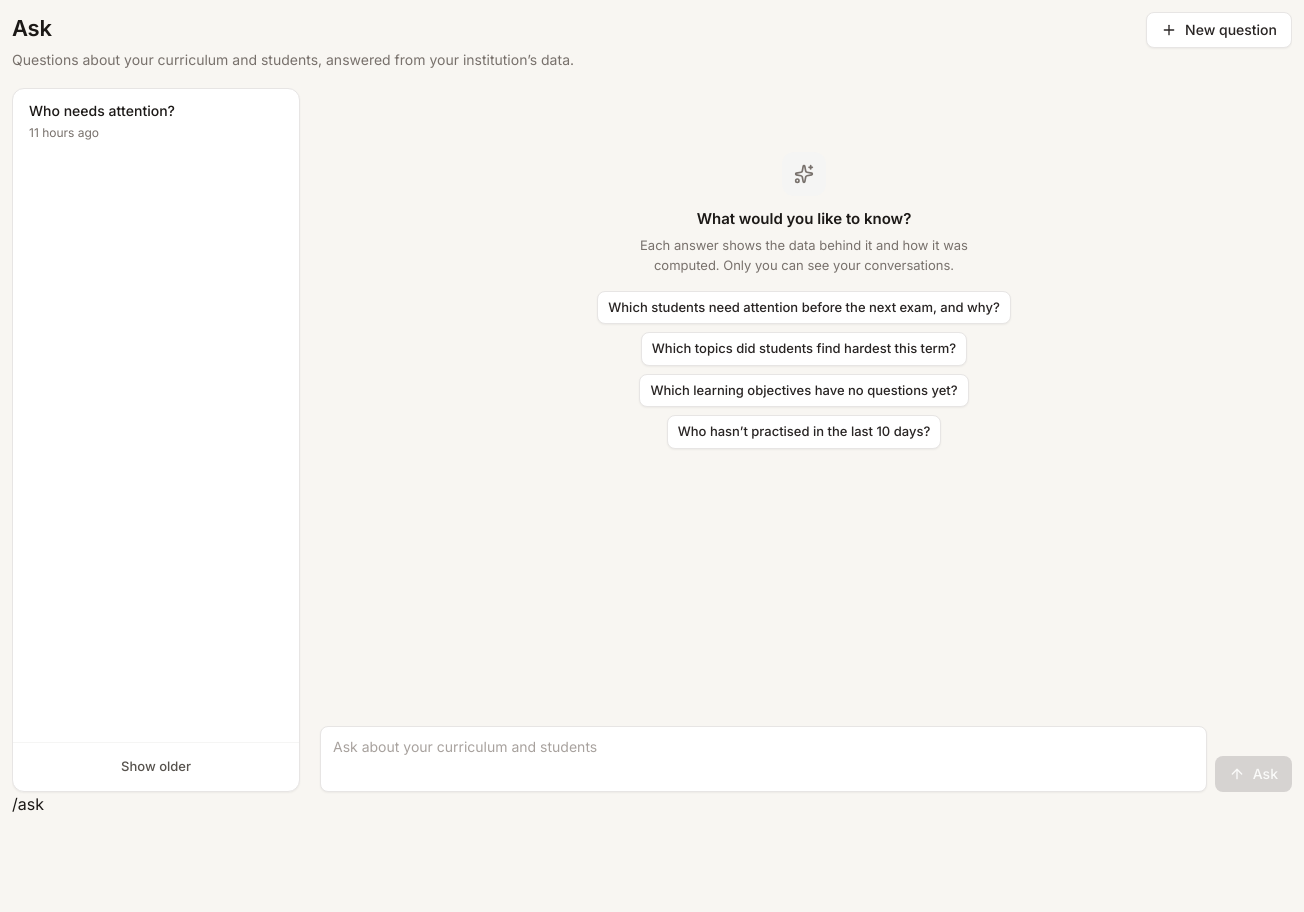
Test case: the thread list › pages on from the cursor
What coordinates should you click on to do the following:
click the button "Show older"
I would click on:
 (156, 767)
Its box is [21,751,291,783].
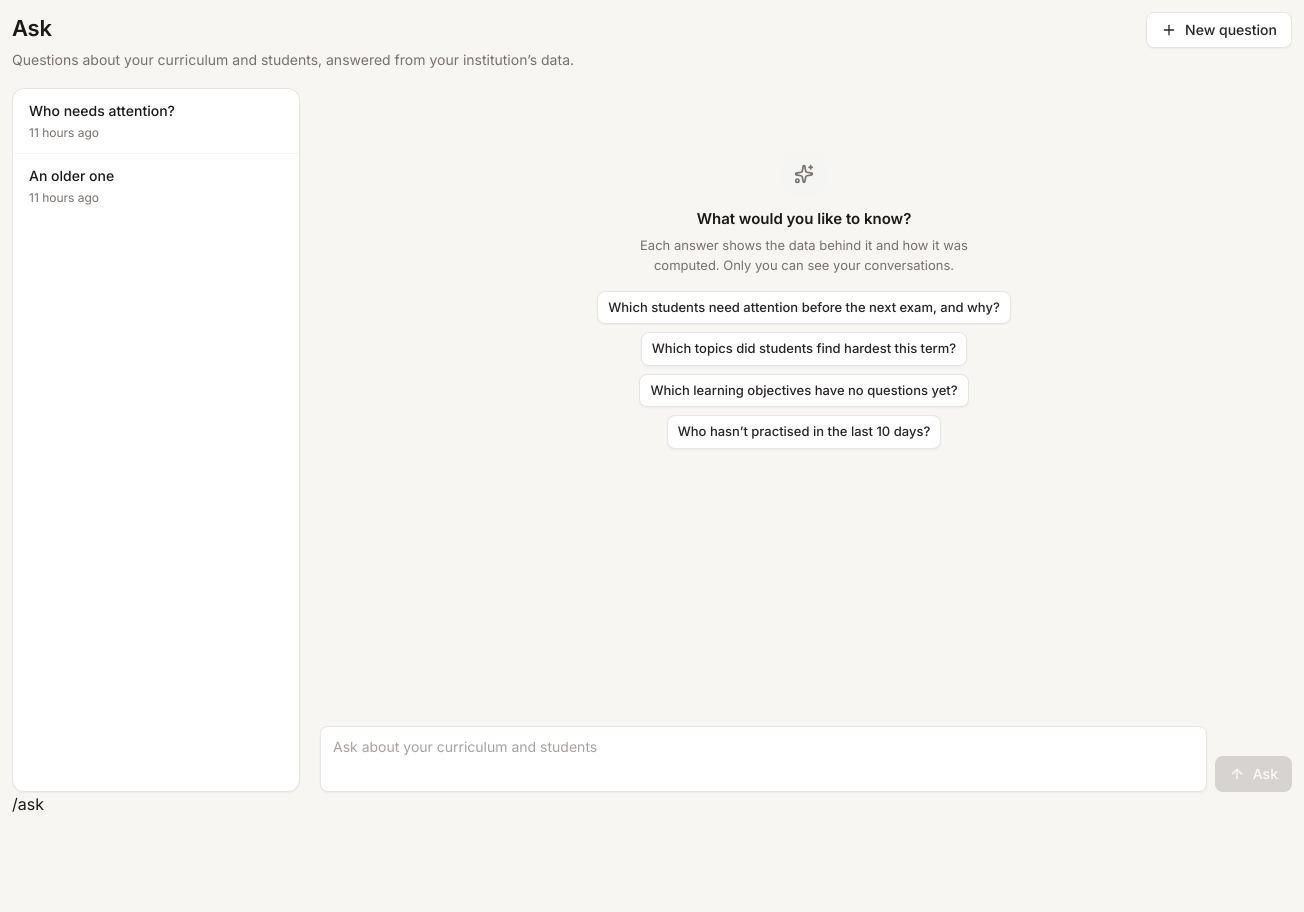
Expected: the text "Who needs attention?" is shown, [29,102,175,119]
Expected: the text "An older one" is shown, [29,167,114,184]
Expected: the button "Show older" is gone
